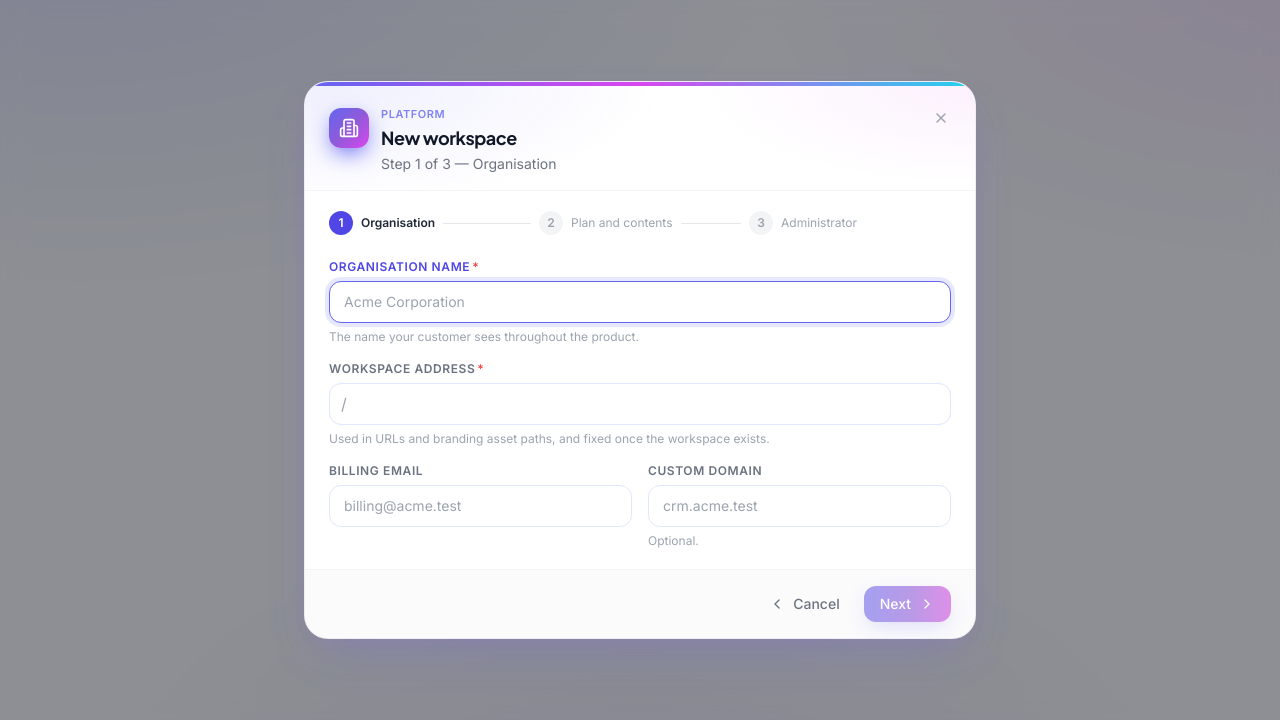
Test case: TenantOnboardWizard › holds Next back until the address is confirmed free
The image size is (1280, 720).
expect the button "Next" is disabled: met, box [864, 586, 951, 622]
Step 1. Type "Acme Life" into the field labelled "Organisation name*" → [640, 302], box [329, 281, 951, 323]
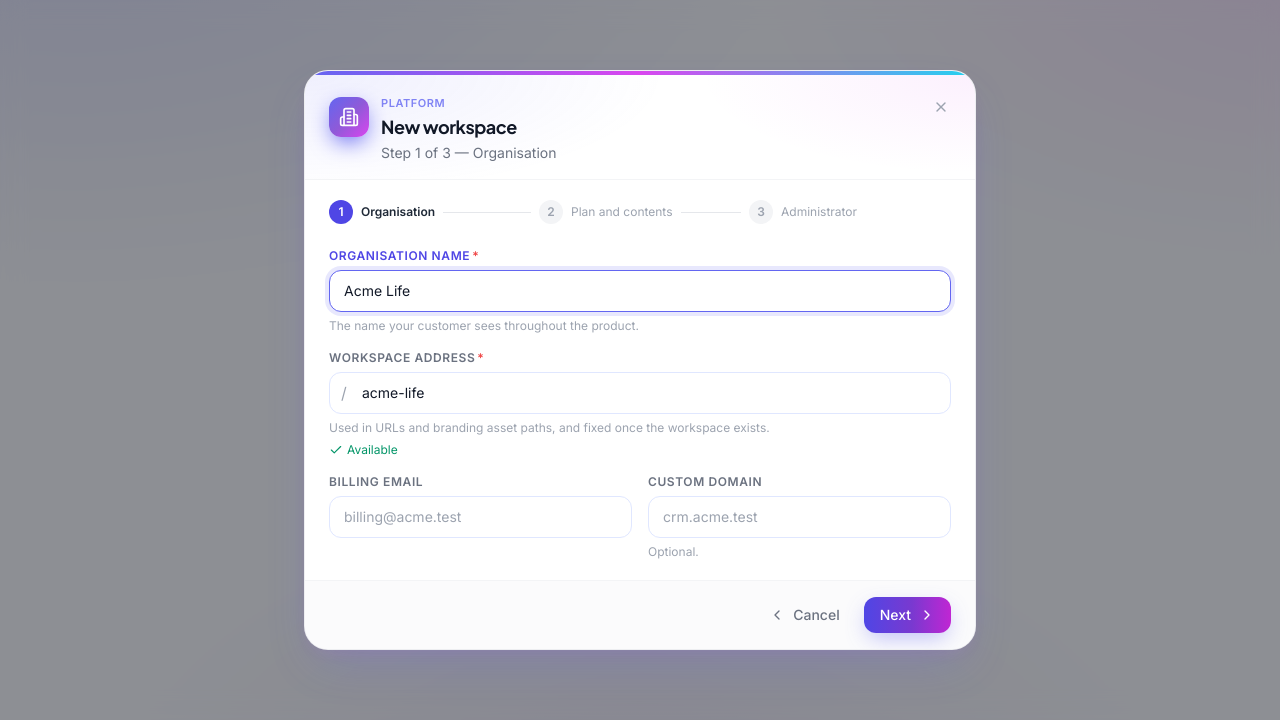
expect the button "Next" is enabled: met, box [864, 597, 951, 633]
